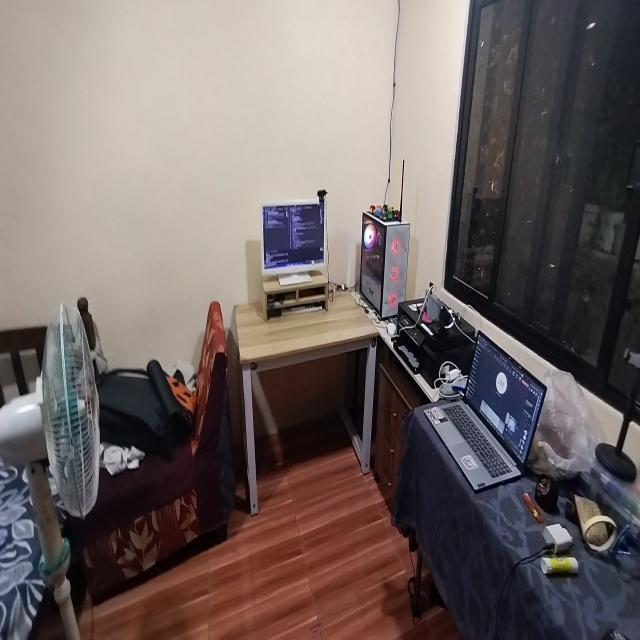table: (235, 291, 382, 522)
